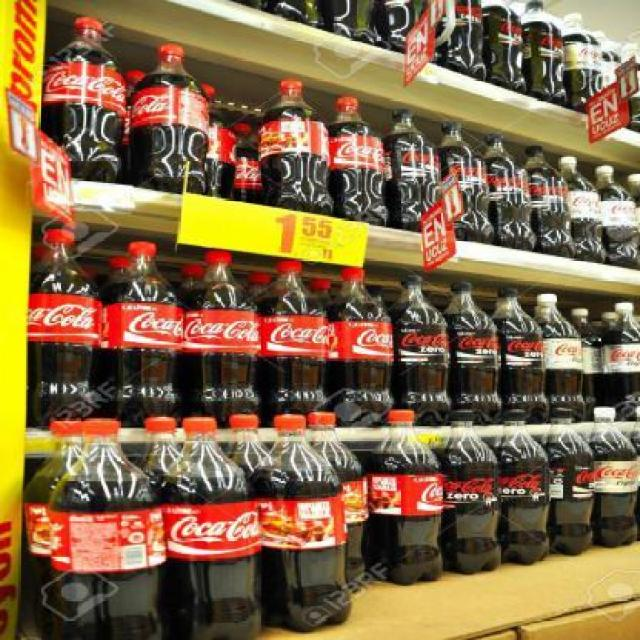Drinks: (46, 418, 165, 638), (159, 417, 259, 638), (254, 415, 351, 633), (28, 228, 103, 432), (104, 240, 185, 428), (43, 18, 128, 182), (370, 410, 445, 585), (186, 252, 260, 428), (260, 257, 332, 428), (132, 43, 208, 195), (256, 78, 333, 216), (439, 408, 501, 575), (490, 408, 552, 566), (334, 268, 394, 427), (392, 275, 450, 427), (443, 280, 502, 426), (541, 408, 596, 558), (492, 288, 550, 424), (586, 406, 640, 548), (436, 121, 496, 245), (331, 95, 386, 228), (387, 110, 442, 233), (525, 147, 581, 259), (535, 292, 582, 425), (486, 132, 536, 251), (595, 165, 640, 272), (600, 300, 638, 423), (522, 0, 566, 106), (559, 156, 601, 264), (564, 11, 608, 114), (484, 0, 526, 95), (437, 1, 483, 77)
